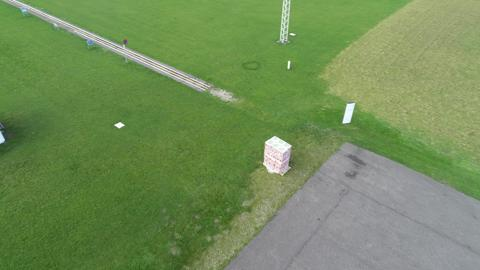RockwoolPallet: (263, 136, 294, 174)
